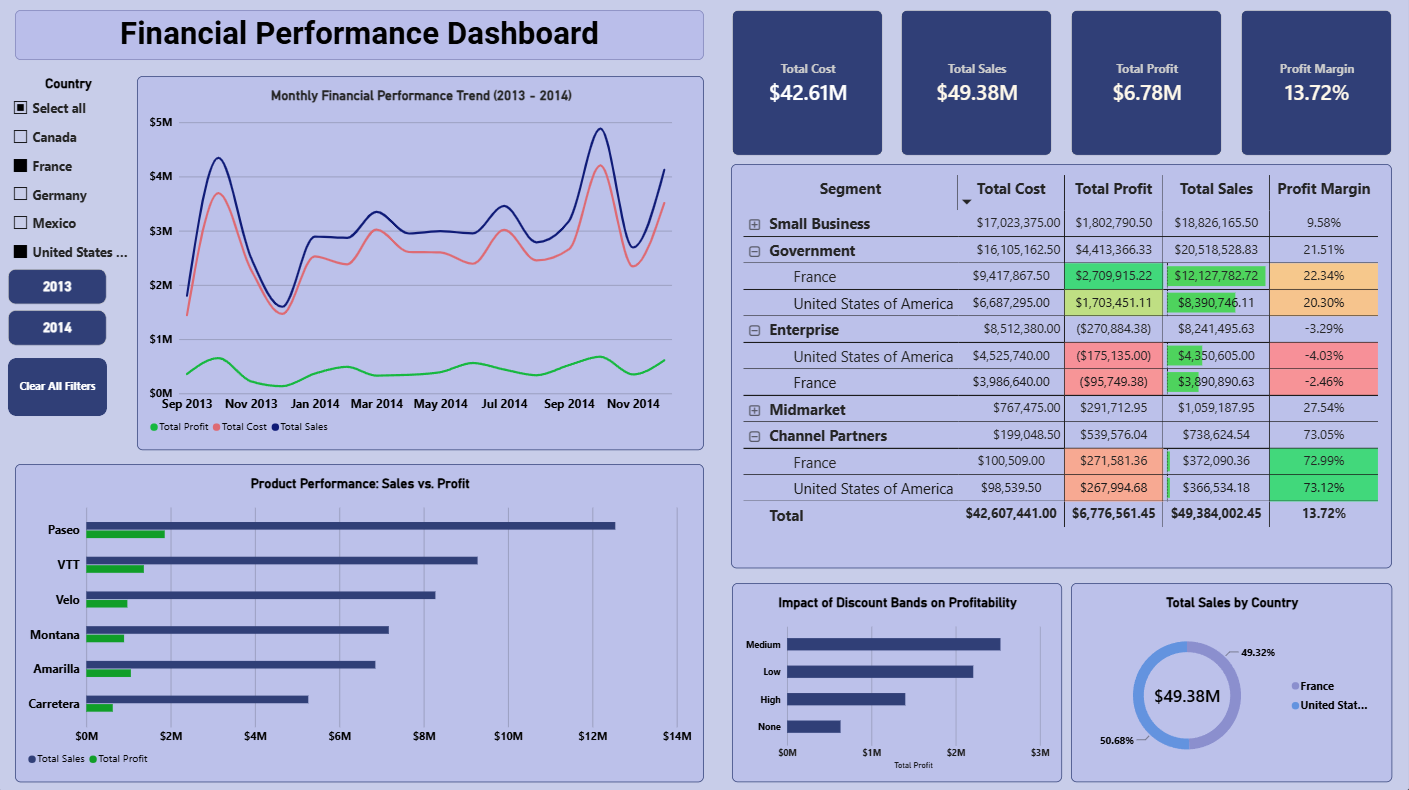

What the dashboard file says about the page in this screenshot:
{"tool":"powerbi","page":{"name":"Page 1","canvas":[1920,1080],"ordinal":0},"visuals":[{"type":"cardVisual","fields":{"Data":["financials.Total Cost"]},"box":[998.4,17.7,205.4,198.6],"z":0},{"type":"cardVisual","fields":{"Data":["financials.Total Sales"]},"box":[1228.3,17.7,205.4,198.6],"z":1000},{"type":"cardVisual","fields":{"Data":["financials.Total Profit"]},"box":[1459.5,17.7,205.4,198.6],"z":2000},{"type":"cardVisual","fields":{"Data":["financials.Profit Margin"]},"box":[1690.7,17.7,205.4,198.6],"z":3000},{"type":"lineChart","title":"Monthly Financial Performance Trend (2013 - 2014)","fields":{"Category":["Dim_Date.Year Month"],"Y":["financials.Total Profit","financials.Total Cost","financials.Total Sales"]},"box":[189.1,107.5,771.2,508.7],"z":4000},{"type":"advancedSlicerVisual","fields":{"Values":["Dim_Date.Year"]},"box":[13.6,370,134.7,104.7],"z":5000},{"type":"pivotTable","fields":{"Rows":["financials.Segment","financials.Country"],"Values":["financials.Total Cost","financials.Total Profit","financials.Total Sales","financials.Profit Margin"]},"box":[997,227.2,899.1,549.5],"z":6000},{"type":"textbox","box":[23.1,17.7,937.2,68],"z":7000},{"type":"slicer","title":"Country","fields":{"Values":["financials.Country"]},"box":[13.6,107.5,164.6,284.3],"z":8000},{"type":"clusteredBarChart","title":"Product Performance: Sales vs. Profit","fields":{"Category":["financials.Product"],"Y":["financials.Total Sales","financials.Total Profit"]},"box":[23.1,635.2,937.2,432.5],"z":9000},{"type":"clusteredBarChart","title":"Impact of Discount Bands on Profitability","fields":{"Category":["financials.Discount Band"],"Y":["financials.Total Profit"]},"box":[998.4,797.1,448.9,270.7],"z":10000},{"type":"actionButton","box":[13.6,491,134.7,78.9],"z":11000},{"type":"donutChart","fields":{"Y":["financials.Total Sales"],"Category":["financials.Country"]},"box":[1459.5,797.1,436.6,270.7],"z":12000}]}

Visuals, with their boxes in screenshot pixels (x1, y1, x2, y2), scaled from the page's 1920x1080 canvas onto the 1409x790 screenshot:
cardVisual - financials.Total Cost: <box>733,13,883,158</box>
cardVisual - financials.Total Sales: <box>901,13,1052,158</box>
cardVisual - financials.Total Profit: <box>1071,13,1222,158</box>
cardVisual - financials.Profit Margin: <box>1241,13,1391,158</box>
"Monthly Financial Performance Trend (2013 - 2014)" lineChart: <box>139,79,705,451</box>
advancedSlicerVisual - Dim_Date.Year: <box>10,271,109,347</box>
pivotTable - financials.Segment x financials.Country: <box>732,166,1391,568</box>
textbox: <box>17,13,705,63</box>
"Country" slicer: <box>10,79,131,287</box>
"Product Performance: Sales vs. Profit" clusteredBarChart: <box>17,465,705,781</box>
"Impact of Discount Bands on Profitability" clusteredBarChart: <box>733,583,1062,781</box>
actionButton: <box>10,359,109,417</box>
donutChart - financials.Total Sales x financials.Country: <box>1071,583,1391,781</box>
